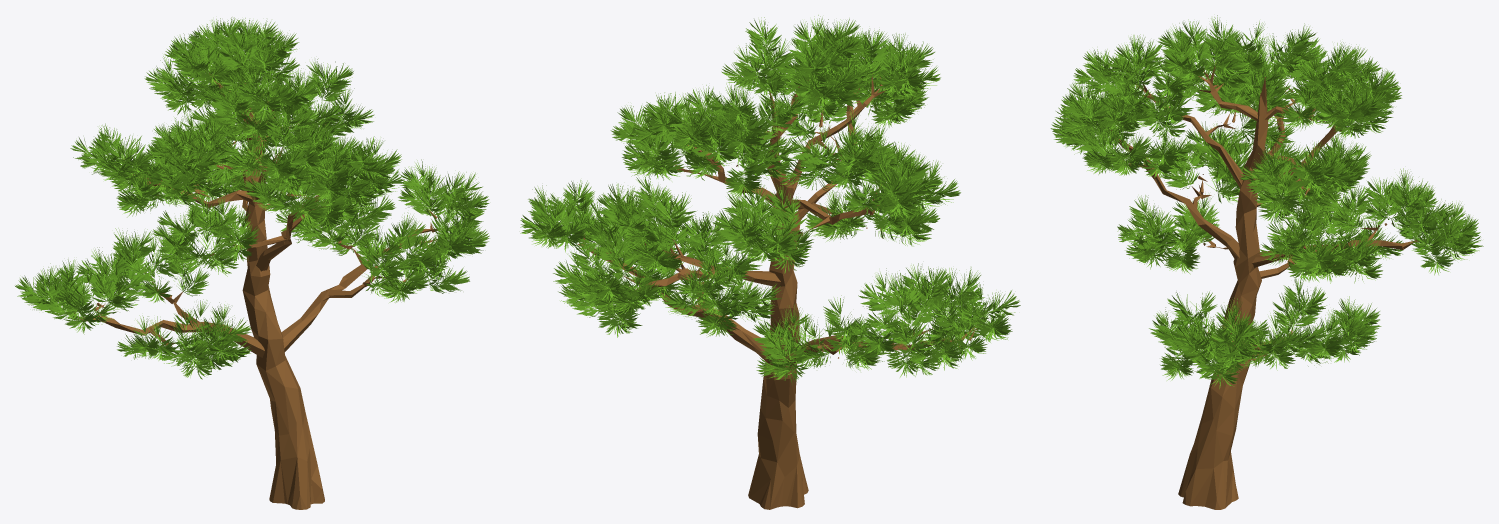
The model's file is bonsai.fbx.
The picture shows the model from 3 angles, left to right: view 1: azimuth 30°, elevation 25°; view 2: azimuth 150°, elevation 25°; view 3: azimuth 270°, elevation 25°; orthographic projection. The views are drawn at different scales.
Parts seen in each view (by area): view 1: bonsai_pine_07_needles_01, bonsai_pine_07_bark_01; view 2: bonsai_pine_07_needles_01, bonsai_pine_07_bark_01; view 3: bonsai_pine_07_needles_01, bonsai_pine_07_bark_01.
Part boxes in pixels (<box>): bonsai_pine_07_needles_01: <box>15,17,489,379</box>; bonsai_pine_07_bark_01: <box>74,73,437,509</box>; bonsai_pine_07_needles_01: <box>520,15,1020,384</box>; bonsai_pine_07_bark_01: <box>578,66,977,509</box>; bonsai_pine_07_needles_01: <box>1050,15,1483,388</box>; bonsai_pine_07_bark_01: <box>1111,62,1418,509</box>.
Size of the model in its own units: 66.95 by 64.79 by 53.87.
